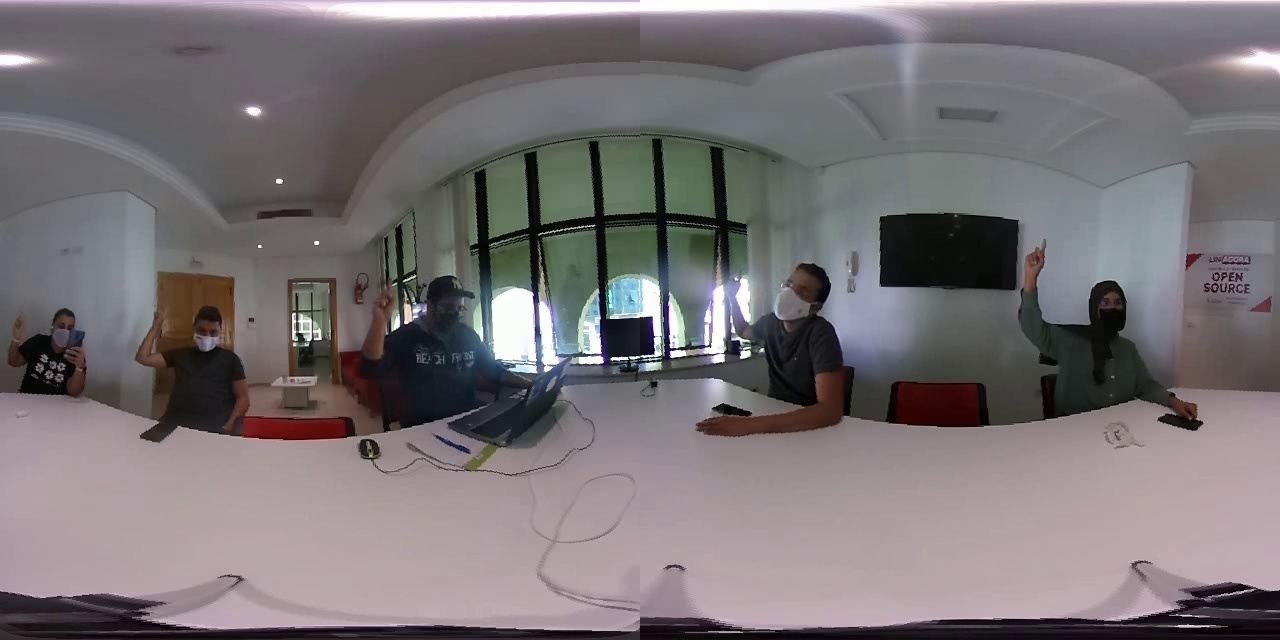person: (1004, 218, 1173, 428), (710, 244, 869, 445), (341, 253, 506, 438), (126, 288, 253, 439), (1, 279, 96, 414)
speaking: (1017, 233, 1062, 354), (354, 270, 399, 388), (714, 256, 754, 351), (132, 300, 174, 379), (5, 304, 33, 372)
